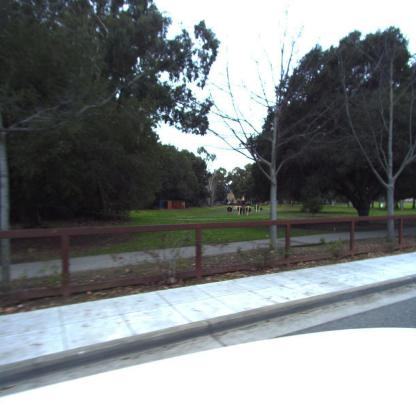person: (241, 204, 245, 214)
